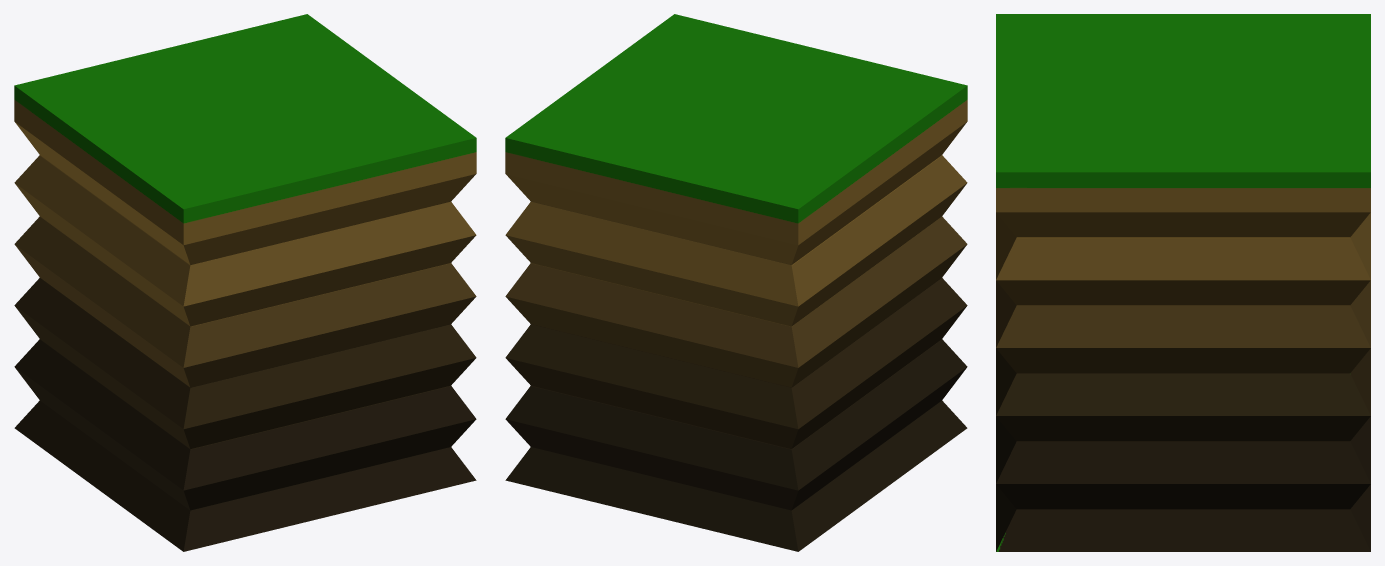
Rendered from Ground.fbx.
3 views of the same model, side by side, from view 1: azimuth 30°, elevation 25°; view 2: azimuth 150°, elevation 25°; view 3: azimuth 270°, elevation 25° (orthographic). The views are drawn at different scales.
Parts seen in each view (by area): view 1: Cube; view 2: Cube; view 3: Cube.
Boxes of the visible parts, <box> form: Cube: <box>14,14,476,551</box>; Cube: <box>505,14,967,551</box>; Cube: <box>996,14,1370,551</box>.
Size of the model in its own units: 400 by 447 by 400.
